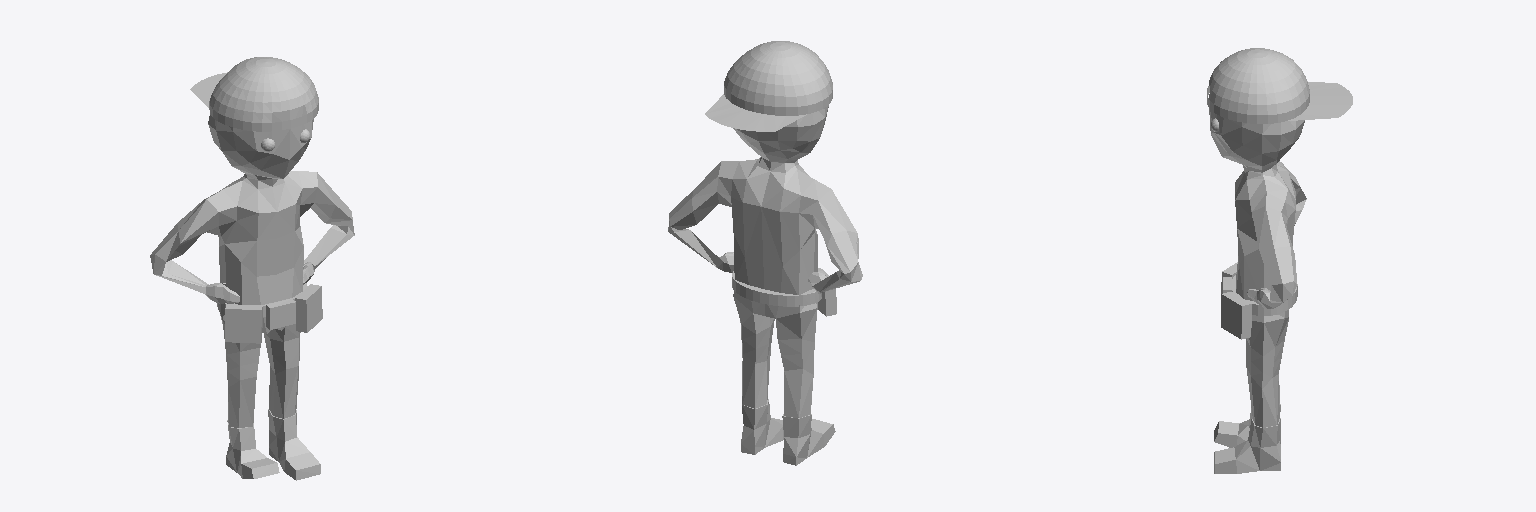
Rendered from Main_Character_Idle_8.obj.
3 renders of one model, left to right at view 1: azimuth 30°, elevation 25°; view 2: azimuth 150°, elevation 25°; view 3: azimuth 270°, elevation 25°, orthographic.
Parts seen in each view (by area): view 1: Main_Character_Test.003_Main_Character_Test.004; view 2: Main_Character_Test.003_Main_Character_Test.004; view 3: Main_Character_Test.003_Main_Character_Test.004.
Boxes of the visible parts, box(x1,y1,x2,y2) form: Main_Character_Test.003_Main_Character_Test.004: box(150, 57, 354, 480); Main_Character_Test.003_Main_Character_Test.004: box(668, 41, 862, 465); Main_Character_Test.003_Main_Character_Test.004: box(1207, 48, 1352, 473).
Bounding box in the file's own units: 2.01 × 3.98 × 1.31.